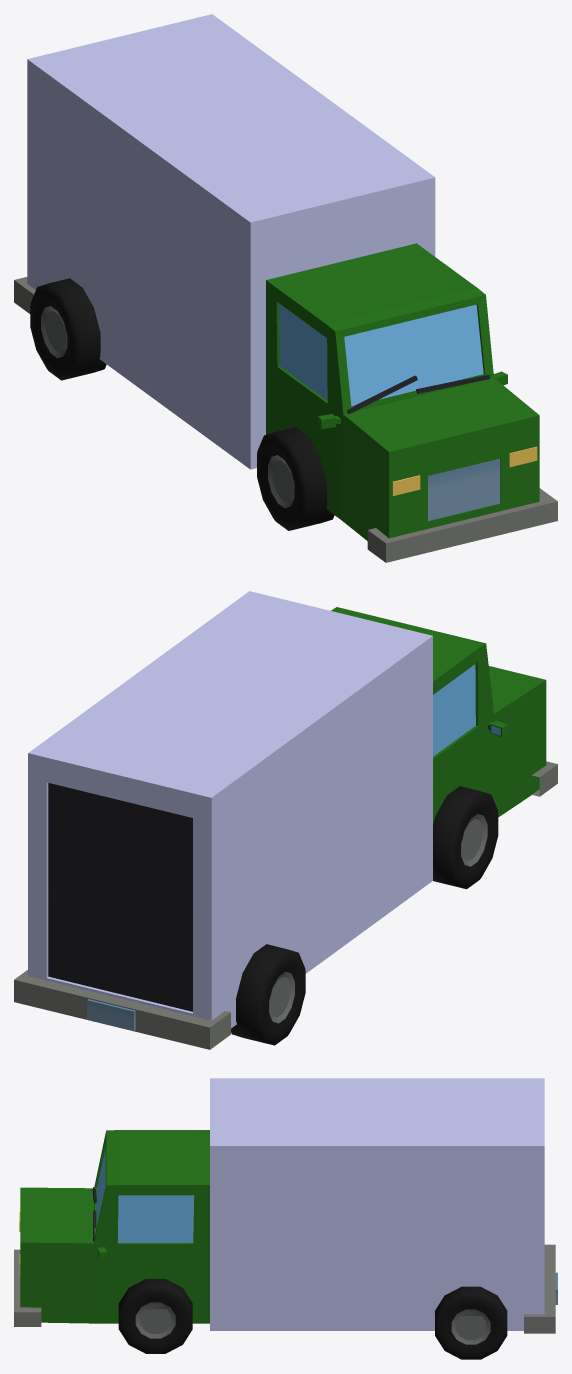
The model's file is SimpleTruck.fbx.
3 renders of one model, top to bottom at view 1: azimuth 30°, elevation 25°; view 2: azimuth 150°, elevation 25°; view 3: azimuth 270°, elevation 25°, orthographic. The views are drawn at different scales.
Parts seen in each view (by area): view 1: SimpleTruck.001; view 2: SimpleTruck.001; view 3: SimpleTruck.001.
Boxes of the visible parts, x1=… form: SimpleTruck.001: x1=14, y1=14, x2=557, y2=562; SimpleTruck.001: x1=14, y1=591, x2=557, y2=1049; SimpleTruck.001: x1=14, y1=1078, x2=557, y2=1359.
Size of the model in its own units: 299 by 341 by 813.
Materials: 1 (1 with a texture image).
